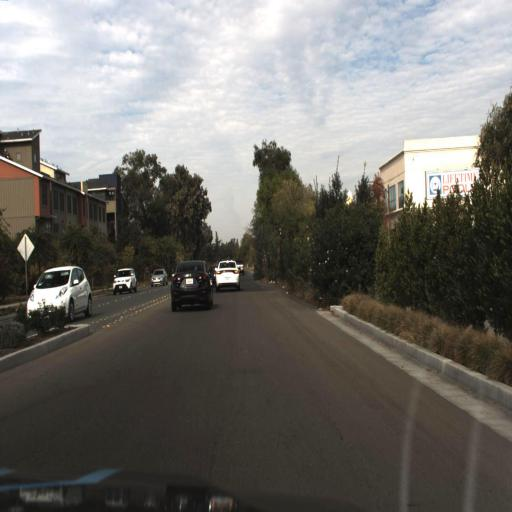car: (16, 260, 98, 334), (20, 264, 92, 326), (166, 250, 219, 322), (210, 252, 248, 304), (109, 264, 138, 298), (110, 265, 139, 297), (146, 261, 169, 294), (202, 267, 218, 297)
